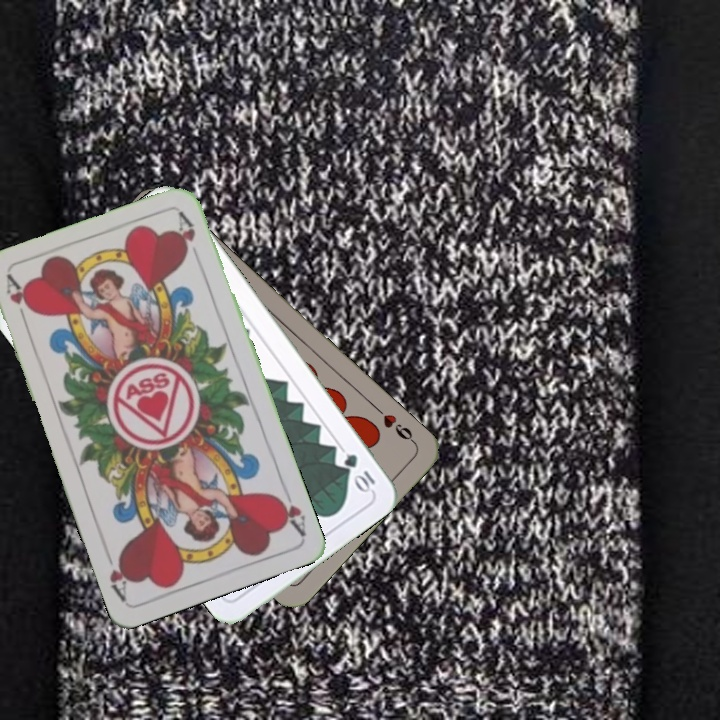G10: (339, 449, 378, 495)
H9: (371, 402, 418, 447)
HA: (271, 481, 309, 539), (2, 272, 35, 330)
